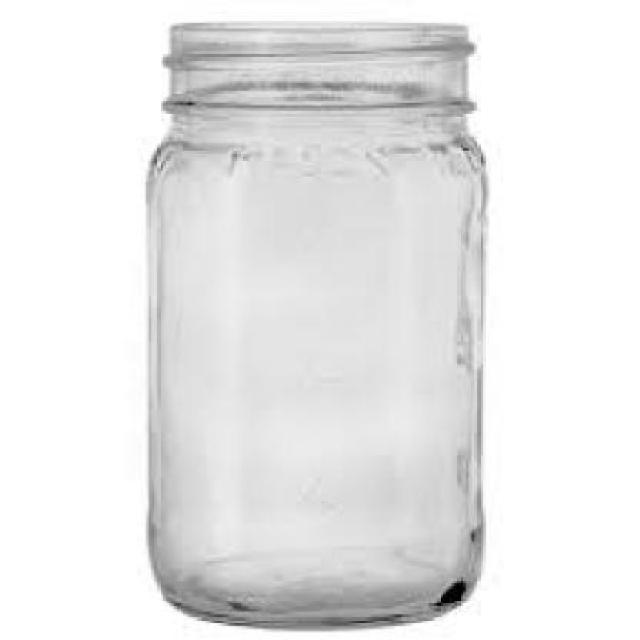kaca: (143, 20, 486, 629)
